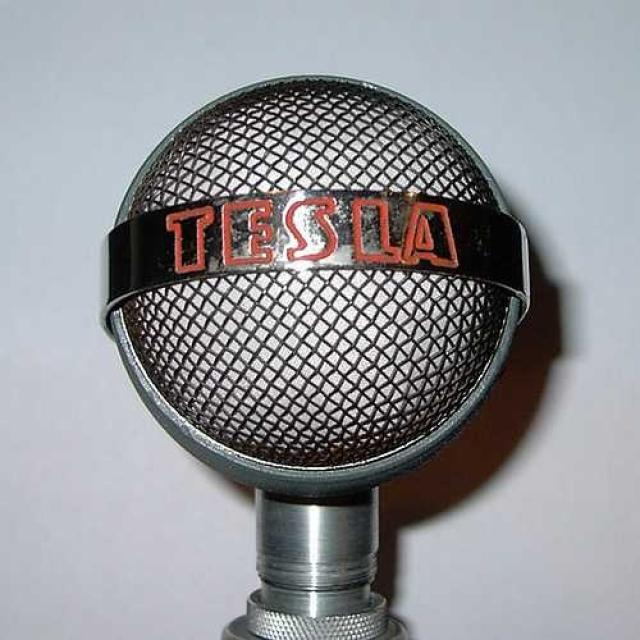microphone: (101, 59, 547, 574)
